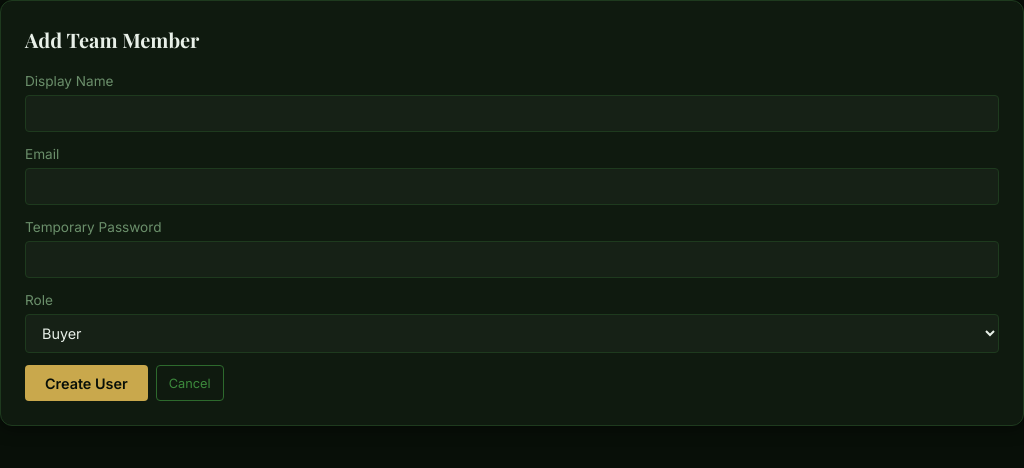
Test case: CreateUserForm › shows error on API failure
Type "New User" into the field labelled "Display Name" at (512, 114), box [25,95,999,132]
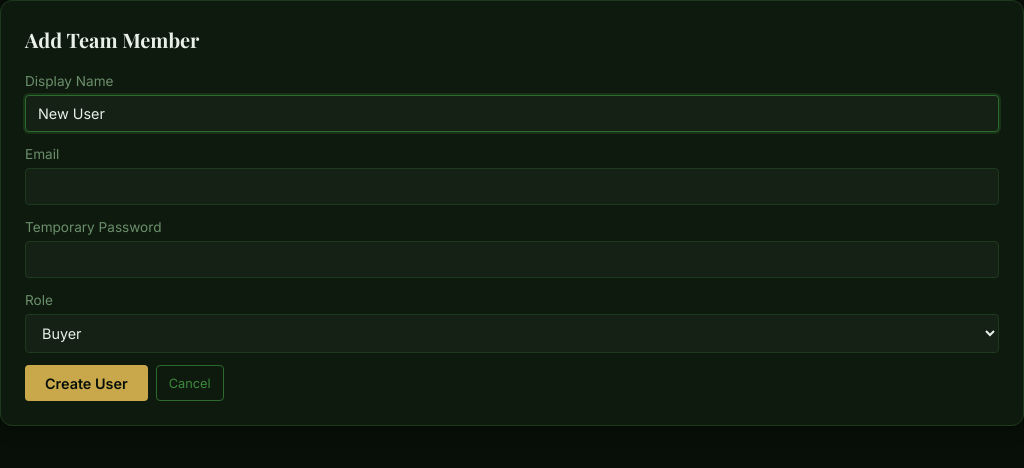
Type "dupe@test.com" into the field labelled "Email" at (512, 187), box [25,168,999,205]
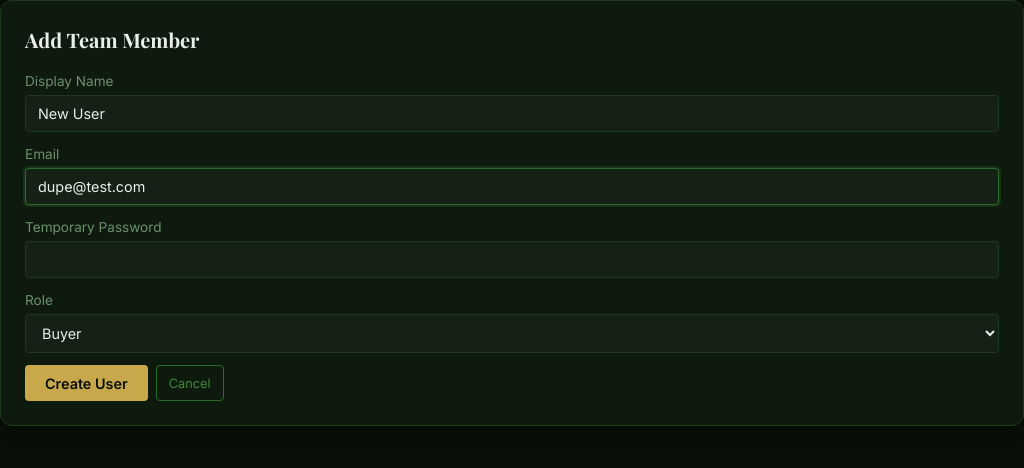
Type "password123" into the password field labelled "Temporary Password" at (512, 260), box [25,241,999,278]
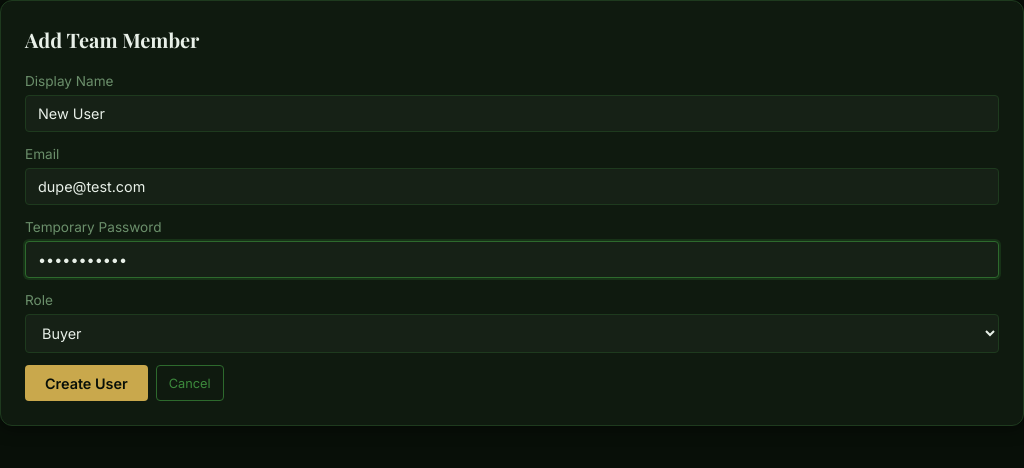
Click the button "Create User" at (86, 383), box [25,365,148,401]
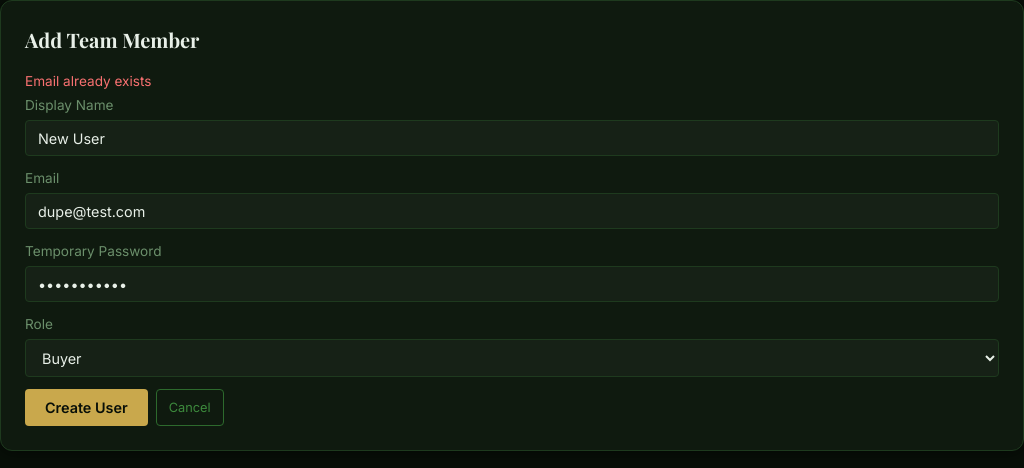
Check: the text "Email already exists" is shown, box [25,73,152,89]
